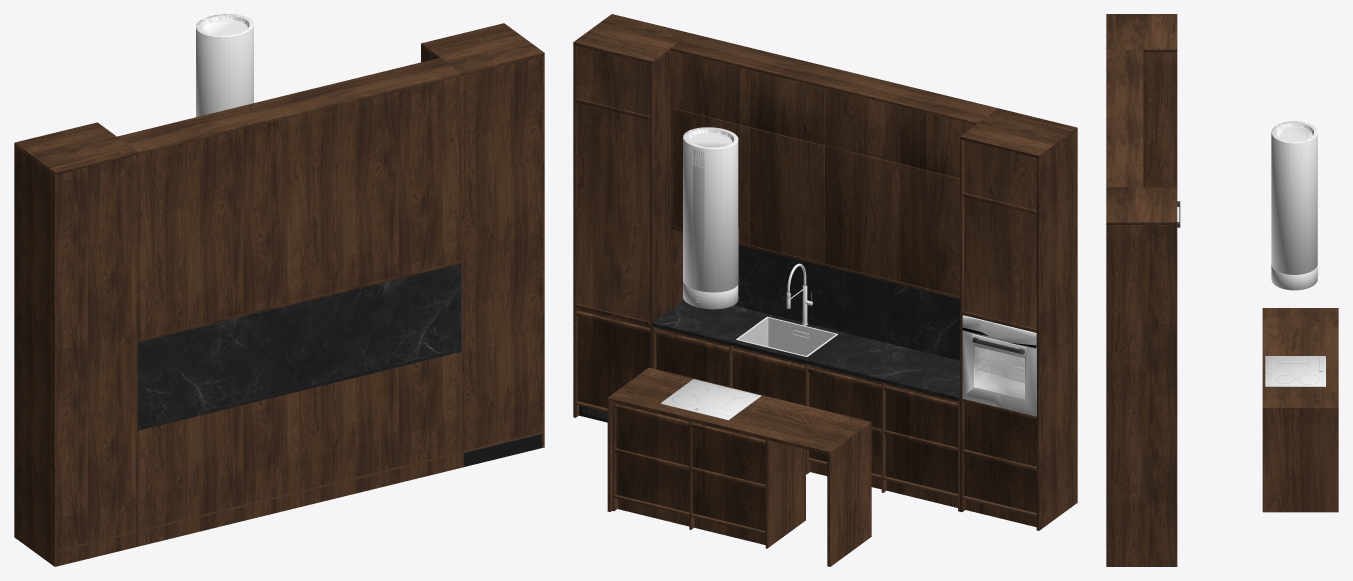
The model's file is kitchen_set.glb.
3 renders of one model, left to right at view 1: azimuth 30°, elevation 25°; view 2: azimuth 150°, elevation 25°; view 3: azimuth 270°, elevation 25°, orthographic. The views are drawn at different scales.
Parts seen in each view (by area): view 1: Kitchen cabinet; view 2: Kitchen cabinet; view 3: Kitchen cabinet.
Boxes of the visible parts, x1,y1,x2,y2 form: Kitchen cabinet: (14, 14, 544, 566); Kitchen cabinet: (573, 14, 1077, 566); Kitchen cabinet: (1106, 14, 1338, 566).
Bounding box in the file's own units: 3.76 × 2.9 × 1.77.
13 materials, 6 textured.
